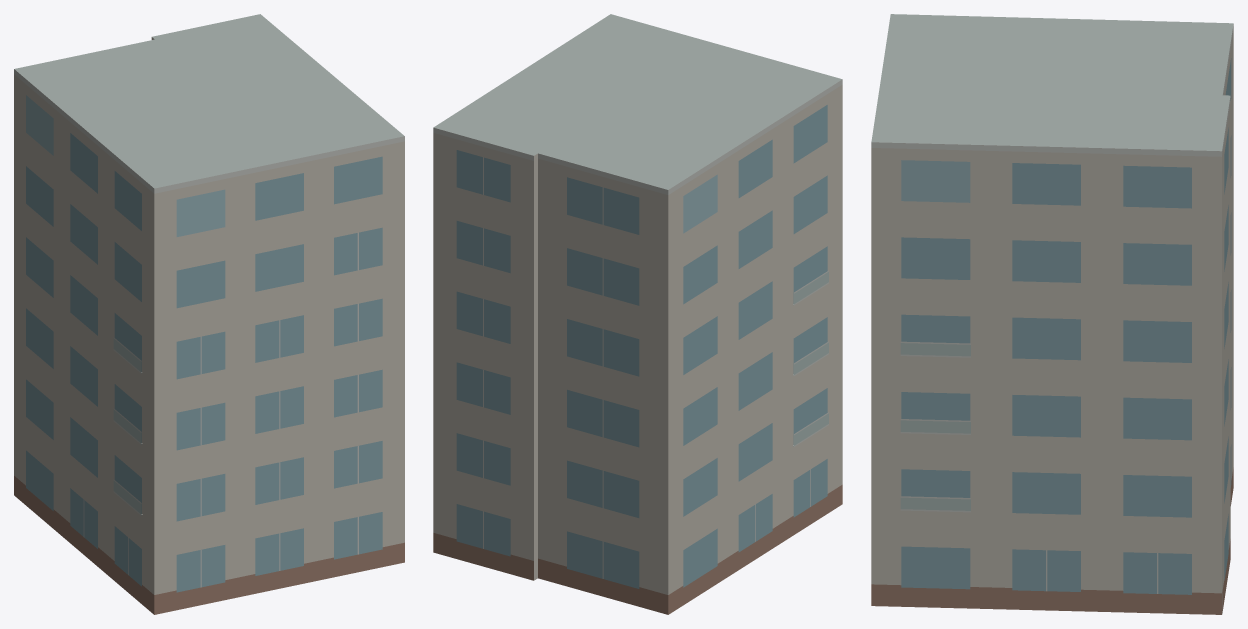
Rendered from survey-upis-32542994.glb.
The picture shows the model from 3 angles, left to right: view 1: azimuth 30°, elevation 25°; view 2: azimuth 150°, elevation 25°; view 3: azimuth 270°, elevation 25°; orthographic projection. The views are drawn at different scales.
Parts seen in each view (by area): view 1: survey-upis-32542994.tmp; view 2: survey-upis-32542994.tmp; view 3: survey-upis-32542994.tmp.
Boxes of the visible parts, x1,y1,x2,y2 form: survey-upis-32542994.tmp: (14, 14, 404, 614); survey-upis-32542994.tmp: (433, 14, 842, 614); survey-upis-32542994.tmp: (871, 14, 1233, 614).
Bounding box in the file's own units: 12.7 × 20 × 14.17.
